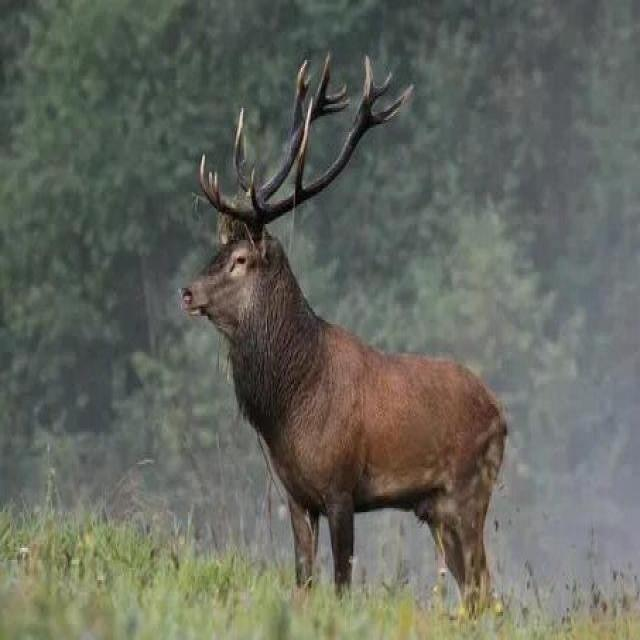deer: (139, 101, 556, 575)
